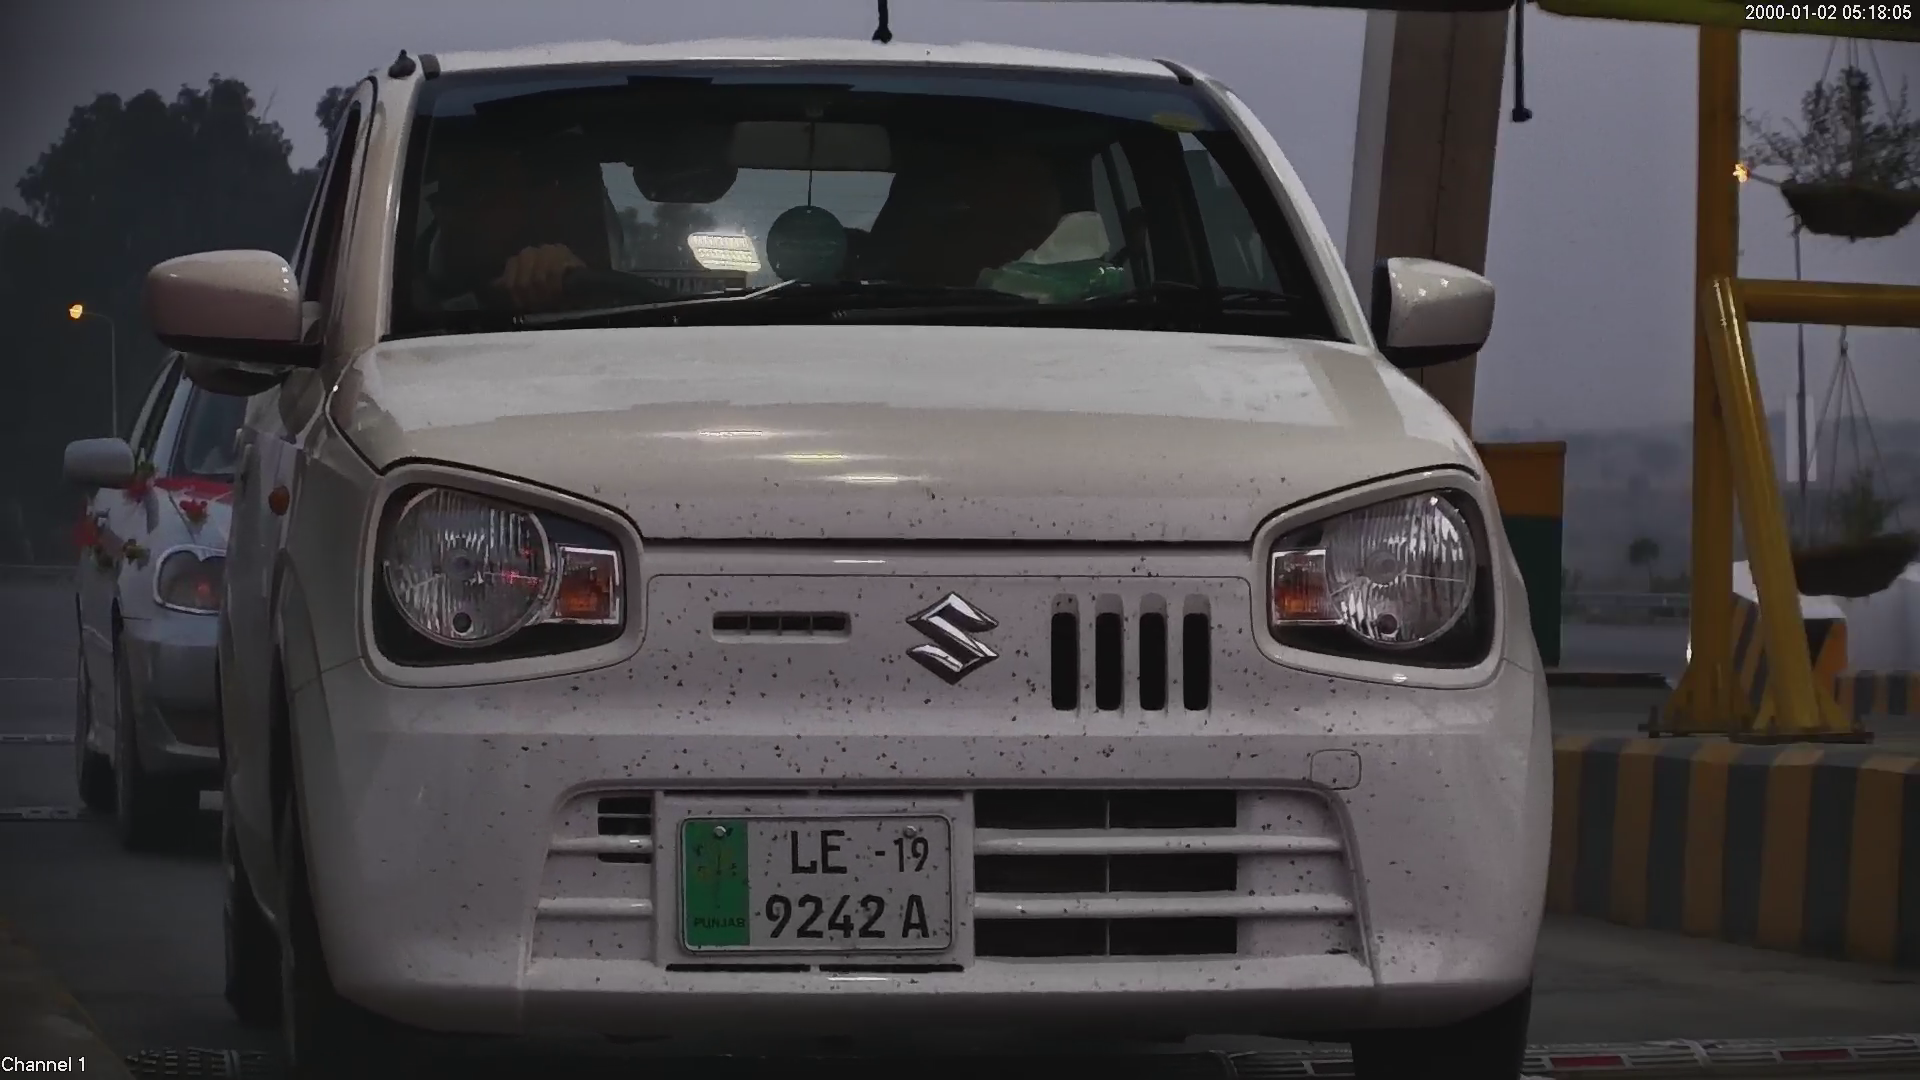Number_Plate: (661, 800, 966, 972)
